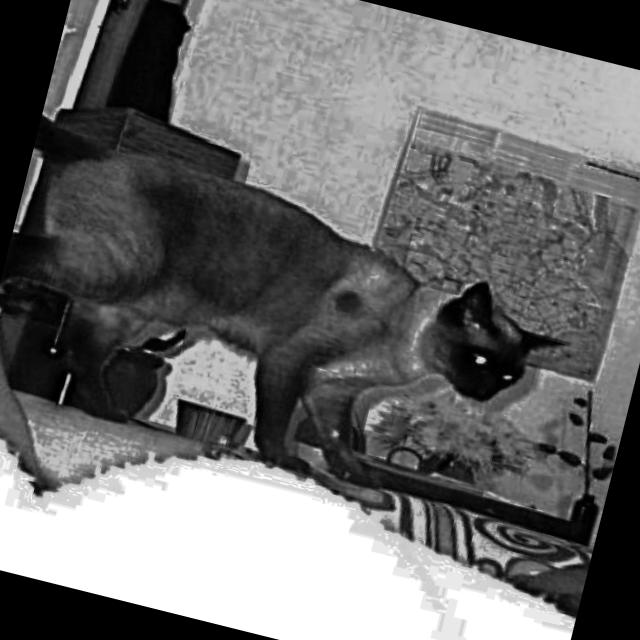Cat: (0, 130, 597, 532)
